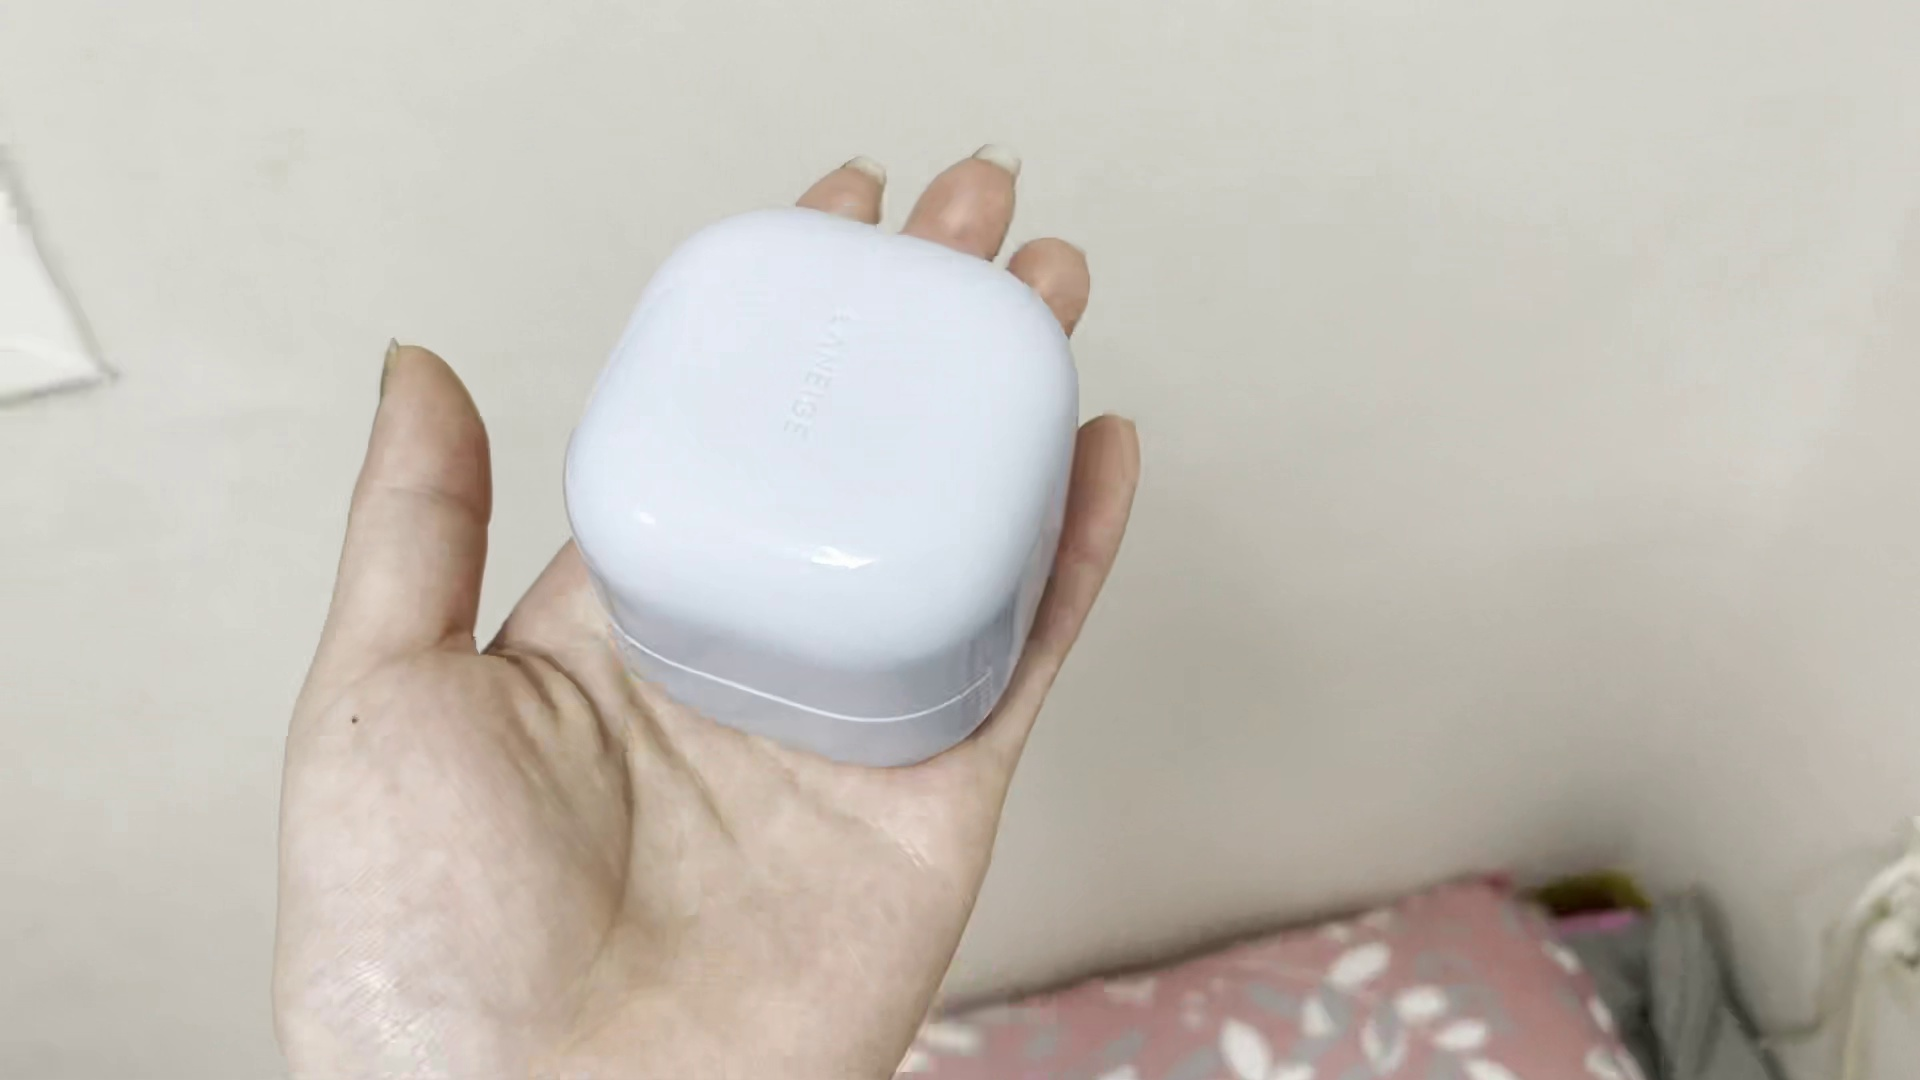cream: (571, 203, 1077, 766)
